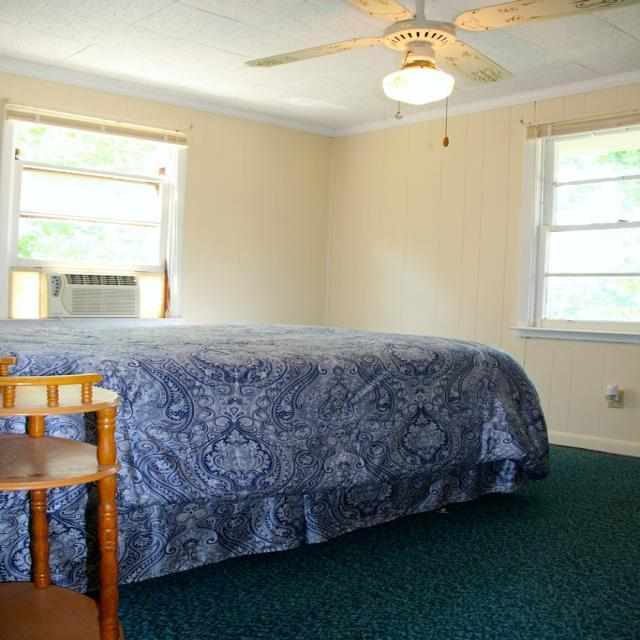fan_off: (244, 0, 640, 78)
